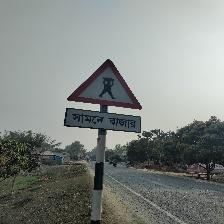Market-in-front: (65, 59, 142, 132)
